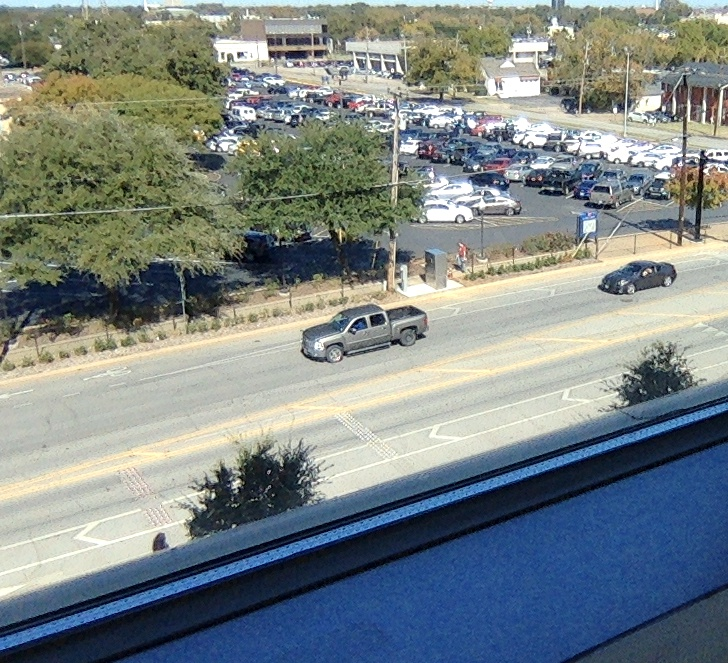car: (300, 300, 428, 363)
